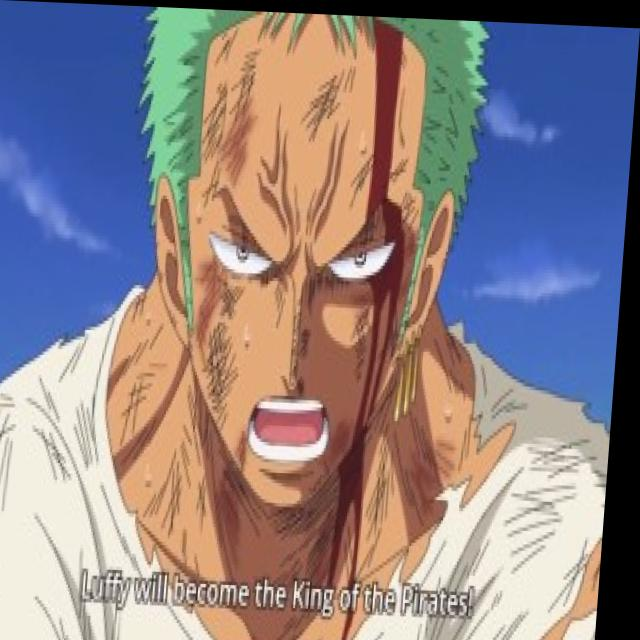Zoro: (111, 5, 502, 521)
